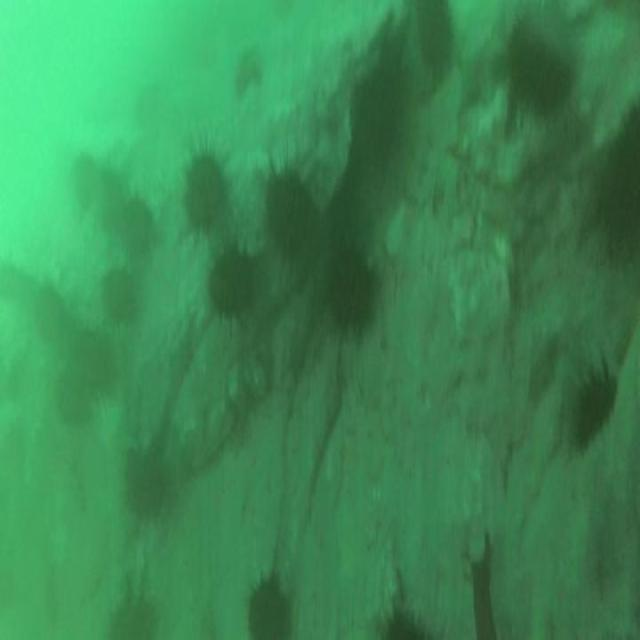echinus: (509, 25, 570, 117), (264, 174, 308, 254), (328, 253, 372, 333), (183, 155, 228, 231), (205, 253, 256, 316), (574, 373, 615, 447), (124, 448, 166, 518), (415, 3, 454, 71), (248, 583, 290, 640), (74, 330, 108, 392), (36, 283, 66, 349), (53, 368, 88, 421), (102, 267, 134, 321), (110, 597, 150, 640), (101, 171, 123, 240), (74, 153, 98, 210), (124, 202, 154, 245)
